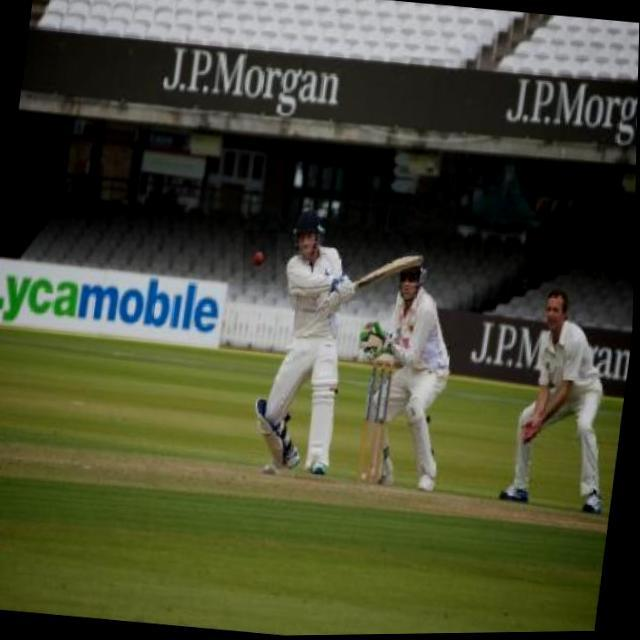-: (244, 231, 279, 286)
